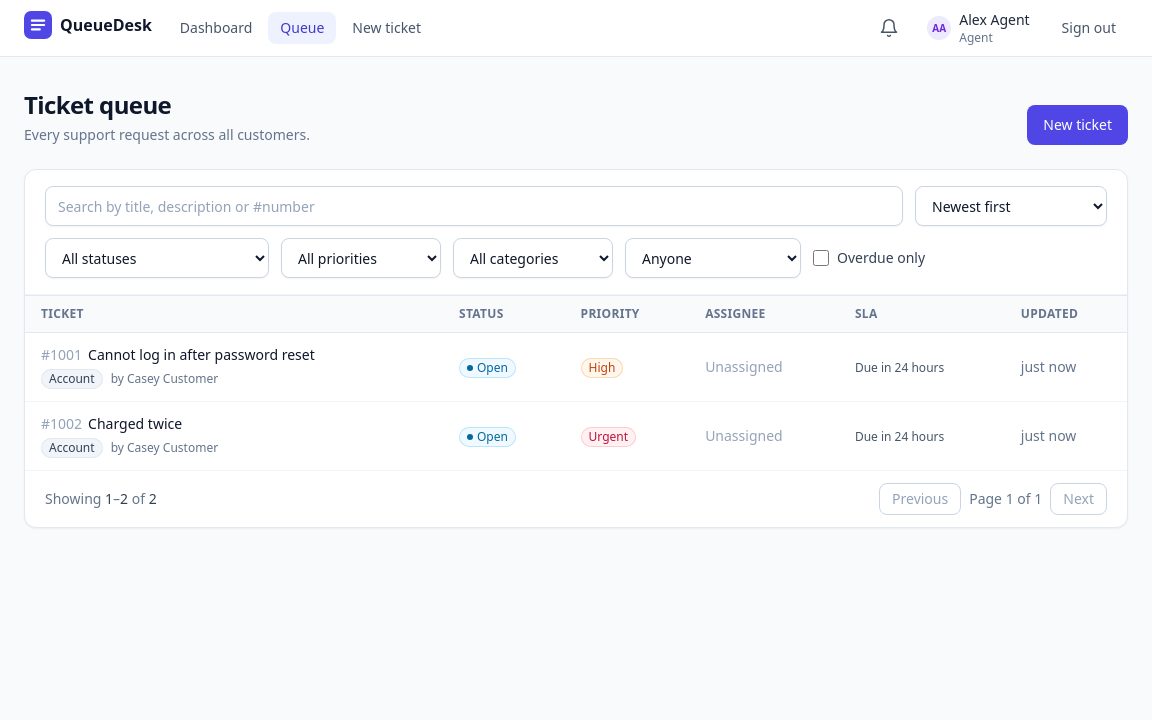
Scenario: profile page › is reachable from the header
Click the link with aria-label "Your profile" at (978, 28), box top-left (919, 6), bottom-right (1038, 50)
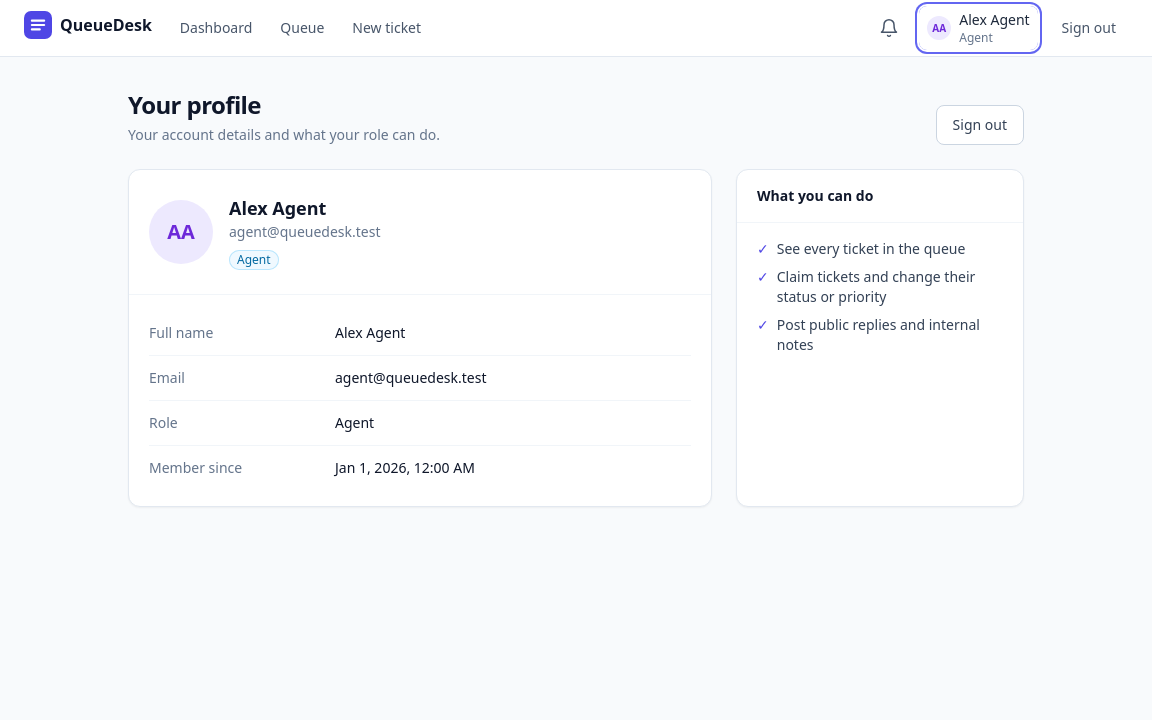
Expected: the list item "Claim tickets and change their status or priority" is shown, top-left (777, 267), bottom-right (975, 306)
